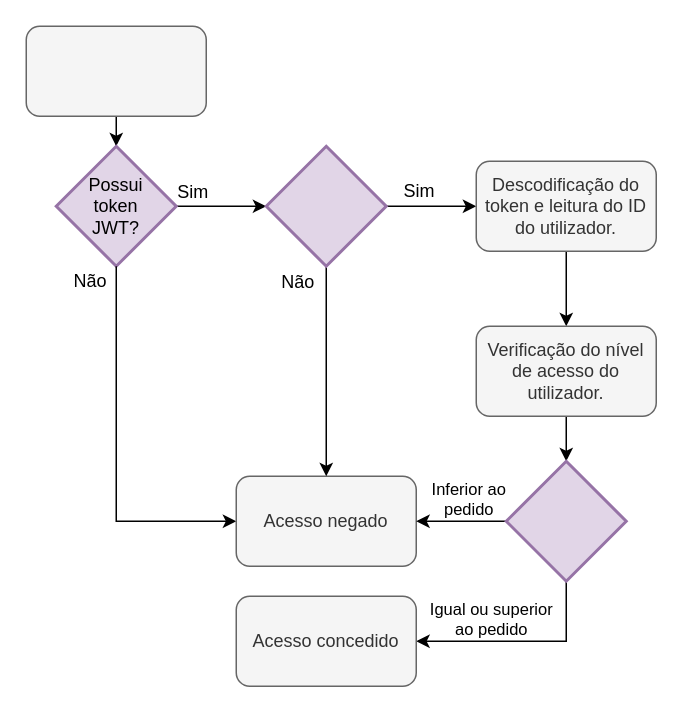
The diagram is 683 pixels wide and 713 high, and some of its shapes have lost their labels. The shapes that lost their labels are listed below. From the top down, each one's centre as x and y in pixels, then its label:
At pixel 115 70: "Utilizador faz pedido à API de dados.".
At pixel 325 205: "JWT é válido?".
At pixel 565 520: "Nível de acesso".
